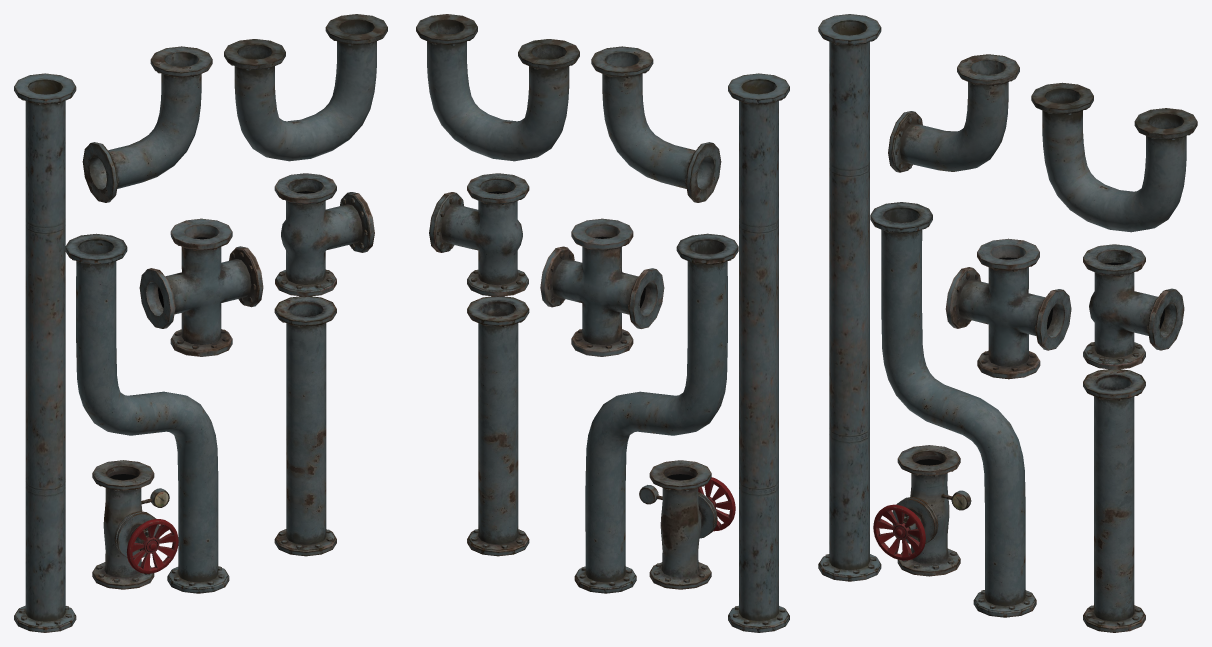
The model's file is modular_industrial_pipes_01_1k.glb.
The picture shows the model from 3 angles, left to right: view 1: azimuth 30°, elevation 25°; view 2: azimuth 150°, elevation 25°; view 3: azimuth 330°, elevation 25°; orthographic projection.
Visible parts, largest first — view 1: modular_industrial_pipes_01_pipe02, modular_industrial_pipes_01_pipe03, modular_industrial_pipes_01_pipe05, modular_industrial_pipes_01_pipe01, modular_industrial_pipes_01_pipe07, modular_industrial_pipes_01_pipe04, modular_industrial_pipes_01_pipe06, modular_industrial_pipes_01_pipe08; view 2: modular_industrial_pipes_01_pipe02, modular_industrial_pipes_01_pipe03, modular_industrial_pipes_01_pipe05, modular_industrial_pipes_01_pipe01, modular_industrial_pipes_01_pipe07, modular_industrial_pipes_01_pipe04, modular_industrial_pipes_01_pipe06, modular_industrial_pipes_01_pipe08; view 3: modular_industrial_pipes_01_pipe02, modular_industrial_pipes_01_pipe03, modular_industrial_pipes_01_pipe05, modular_industrial_pipes_01_pipe01, modular_industrial_pipes_01_pipe07, modular_industrial_pipes_01_pipe06, modular_industrial_pipes_01_pipe04, modular_industrial_pipes_01_pipe08.
Part boxes in pixels (x1,y1,x2,y2): modular_industrial_pipes_01_pipe02: [14, 73, 76, 632]; modular_industrial_pipes_01_pipe03: [65, 233, 229, 593]; modular_industrial_pipes_01_pipe05: [224, 14, 387, 161]; modular_industrial_pipes_01_pipe01: [274, 296, 336, 556]; modular_industrial_pipes_01_pipe07: [139, 218, 263, 356]; modular_industrial_pipes_01_pipe04: [82, 46, 212, 202]; modular_industrial_pipes_01_pipe06: [274, 173, 374, 296]; modular_industrial_pipes_01_pipe08: [92, 460, 178, 589]; modular_industrial_pipes_01_pipe02: [728, 73, 789, 632]; modular_industrial_pipes_01_pipe03: [574, 233, 738, 593]; modular_industrial_pipes_01_pipe05: [416, 14, 579, 161]; modular_industrial_pipes_01_pipe01: [467, 296, 529, 556]; modular_industrial_pipes_01_pipe07: [540, 218, 664, 356]; modular_industrial_pipes_01_pipe04: [591, 46, 721, 202]; modular_industrial_pipes_01_pipe06: [429, 173, 529, 296]; modular_industrial_pipes_01_pipe08: [639, 460, 735, 589]; modular_industrial_pipes_01_pipe02: [818, 14, 881, 581]; modular_industrial_pipes_01_pipe03: [870, 202, 1036, 617]; modular_industrial_pipes_01_pipe05: [1031, 82, 1197, 232]; modular_industrial_pipes_01_pipe01: [1083, 369, 1145, 632]; modular_industrial_pipes_01_pipe07: [945, 238, 1071, 379]; modular_industrial_pipes_01_pipe06: [1083, 244, 1184, 369]; modular_industrial_pipes_01_pipe04: [888, 54, 1019, 172]; modular_industrial_pipes_01_pipe08: [873, 445, 971, 576].
Size of the model in its own units: 1.4 by 1.95 by 0.3076.
2 materials, 2 textured.
